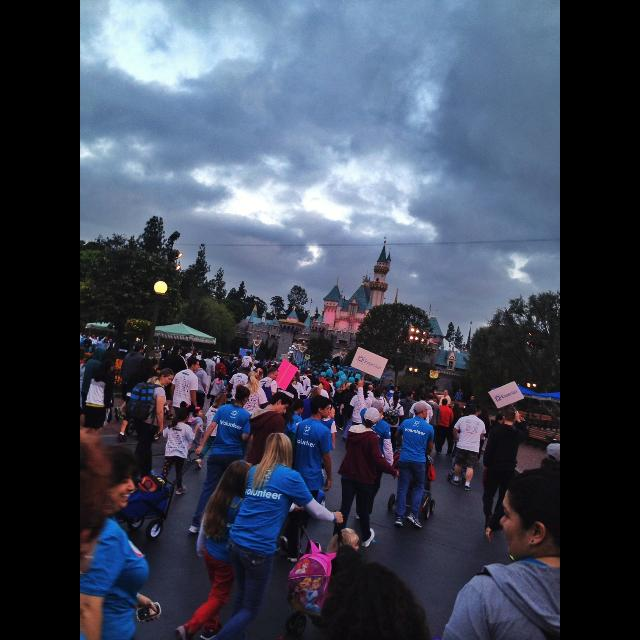head: (85, 444, 138, 508), (227, 460, 256, 498), (264, 434, 292, 464), (334, 530, 360, 554), (310, 394, 332, 420), (271, 392, 291, 418), (158, 368, 176, 387), (235, 386, 251, 406), (364, 408, 381, 426), (414, 404, 430, 421), (502, 410, 518, 424), (177, 407, 191, 423), (101, 359, 115, 375), (292, 399, 306, 415), (102, 358, 115, 374), (187, 358, 201, 372), (372, 400, 384, 416), (267, 368, 279, 382), (468, 406, 479, 418), (248, 371, 258, 384), (217, 393, 227, 405), (326, 407, 336, 419), (194, 407, 204, 418), (135, 344, 145, 354), (149, 359, 159, 369), (174, 344, 182, 356), (419, 392, 428, 402), (480, 408, 490, 417), (373, 388, 382, 397), (496, 414, 504, 424), (198, 360, 206, 370), (256, 368, 264, 378), (207, 351, 216, 359), (244, 368, 252, 377), (406, 390, 414, 398), (349, 384, 357, 392), (312, 378, 320, 386), (288, 376, 296, 384), (394, 394, 401, 402), (362, 385, 368, 393), (442, 399, 448, 407), (452, 402, 458, 410), (318, 381, 324, 389), (428, 394, 434, 401), (444, 390, 451, 396), (340, 384, 346, 391), (304, 369, 310, 376), (470, 395, 476, 401), (220, 374, 226, 380), (192, 353, 198, 359), (220, 358, 226, 364), (318, 374, 324, 380), (292, 376, 298, 382), (368, 385, 374, 391), (458, 388, 462, 394), (188, 350, 194, 354), (246, 352, 252, 356), (396, 386, 400, 392), (308, 370, 312, 376), (391, 386, 395, 390), (391, 380, 394, 384)
person: (328, 406, 402, 552), (189, 383, 255, 542), (275, 393, 335, 564), (242, 392, 294, 536), (122, 365, 178, 495), (350, 377, 398, 525), (478, 408, 532, 532), (391, 402, 437, 530), (318, 520, 370, 630), (154, 406, 200, 498), (229, 369, 269, 471), (115, 358, 161, 444), (80, 356, 116, 452), (166, 358, 202, 452), (192, 388, 232, 472), (450, 404, 488, 492), (83, 344, 115, 446), (277, 396, 307, 486), (115, 343, 148, 421), (162, 343, 190, 423), (312, 404, 338, 480), (256, 365, 280, 445), (486, 411, 522, 463), (379, 391, 406, 455), (347, 384, 371, 452), (408, 391, 434, 449), (276, 374, 298, 440), (364, 386, 388, 446), (443, 401, 467, 457), (228, 366, 252, 422), (420, 392, 440, 456), (190, 360, 210, 424), (471, 405, 492, 465), (197, 350, 217, 412), (184, 406, 206, 462), (432, 398, 452, 458), (340, 383, 360, 443), (398, 388, 418, 446), (309, 380, 331, 430), (284, 372, 304, 422), (247, 368, 266, 419), (433, 388, 453, 432), (314, 374, 332, 421), (207, 373, 227, 415), (296, 369, 312, 419), (332, 382, 348, 428), (305, 378, 321, 424), (212, 356, 228, 398), (300, 370, 316, 410), (237, 350, 256, 380), (464, 394, 482, 424), (186, 352, 200, 386), (183, 347, 195, 379), (386, 384, 396, 416), (364, 384, 374, 416), (384, 380, 396, 404), (392, 384, 401, 414), (454, 387, 464, 413)
